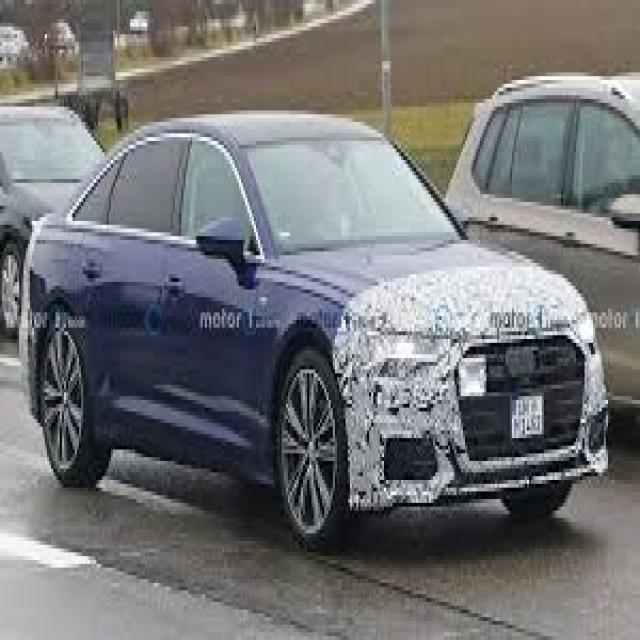blue: (28, 102, 634, 536)
